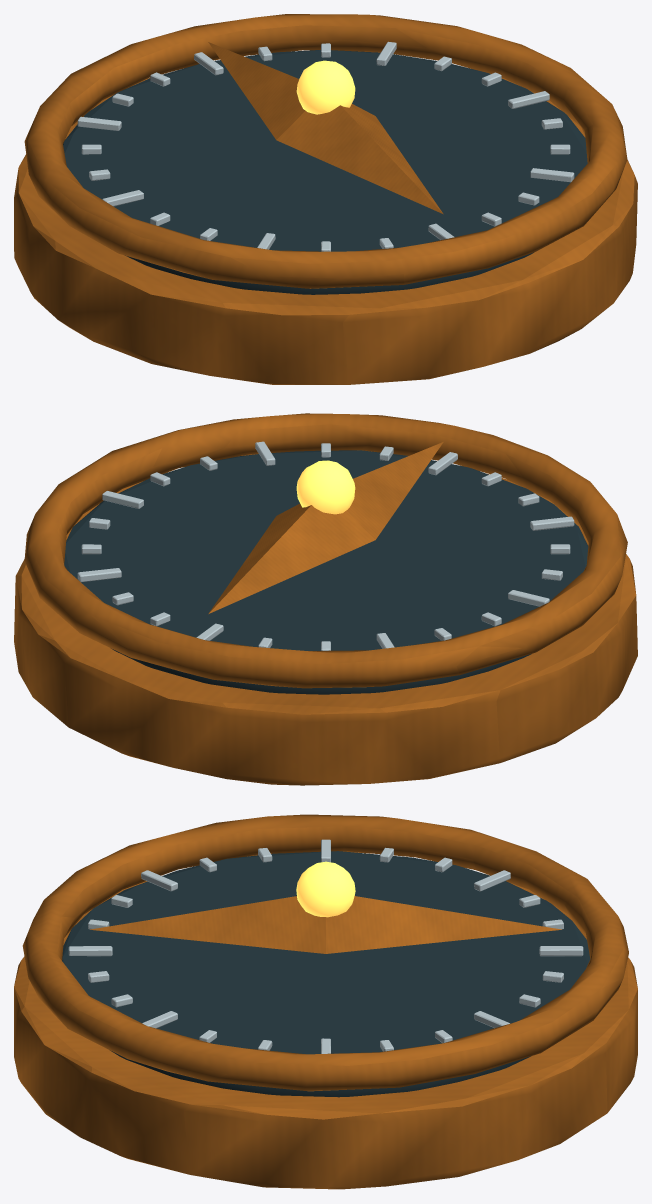
The model's file is relic_00_low.glb.
3 renders of one model, top to bottom at view 1: azimuth 30°, elevation 25°; view 2: azimuth 150°, elevation 25°; view 3: azimuth 270°, elevation 25°, orthographic.
Visible parts, largest first — view 1: Brushed_gold, Obsidian, Antique_silver, Warm_amber; view 2: Brushed_gold, Obsidian, Antique_silver, Warm_amber; view 3: Brushed_gold, Obsidian, Antique_silver, Warm_amber.
Part boxes in pixels (bbox=[...]): Brushed_gold: bbox=[14, 14, 637, 384]; Obsidian: bbox=[63, 50, 587, 294]; Antique_silver: bbox=[77, 41, 574, 251]; Warm_amber: bbox=[296, 60, 355, 114]; Brushed_gold: bbox=[14, 413, 637, 785]; Obsidian: bbox=[64, 450, 588, 694]; Antique_silver: bbox=[77, 441, 574, 650]; Warm_amber: bbox=[296, 460, 355, 514]; Brushed_gold: bbox=[14, 814, 637, 1189]; Obsidian: bbox=[62, 851, 590, 1097]; Antique_silver: bbox=[68, 839, 583, 1053]; Warm_amber: bbox=[296, 861, 355, 917].
Size of the model in its own units: 0.7369 by 0.255 by 0.7369.
4 materials, 1 textured.
